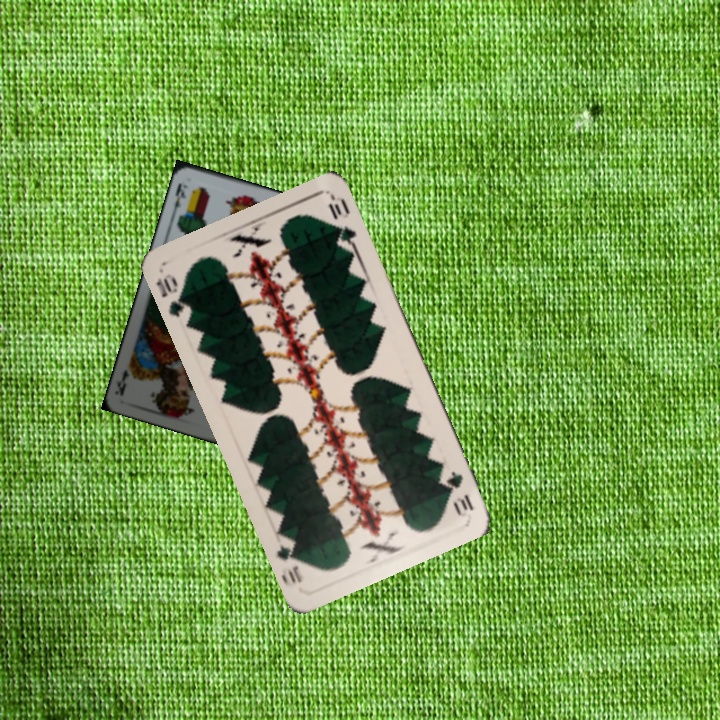EK: (168, 179, 190, 217)
G10: (152, 269, 195, 323), (442, 467, 477, 517)
